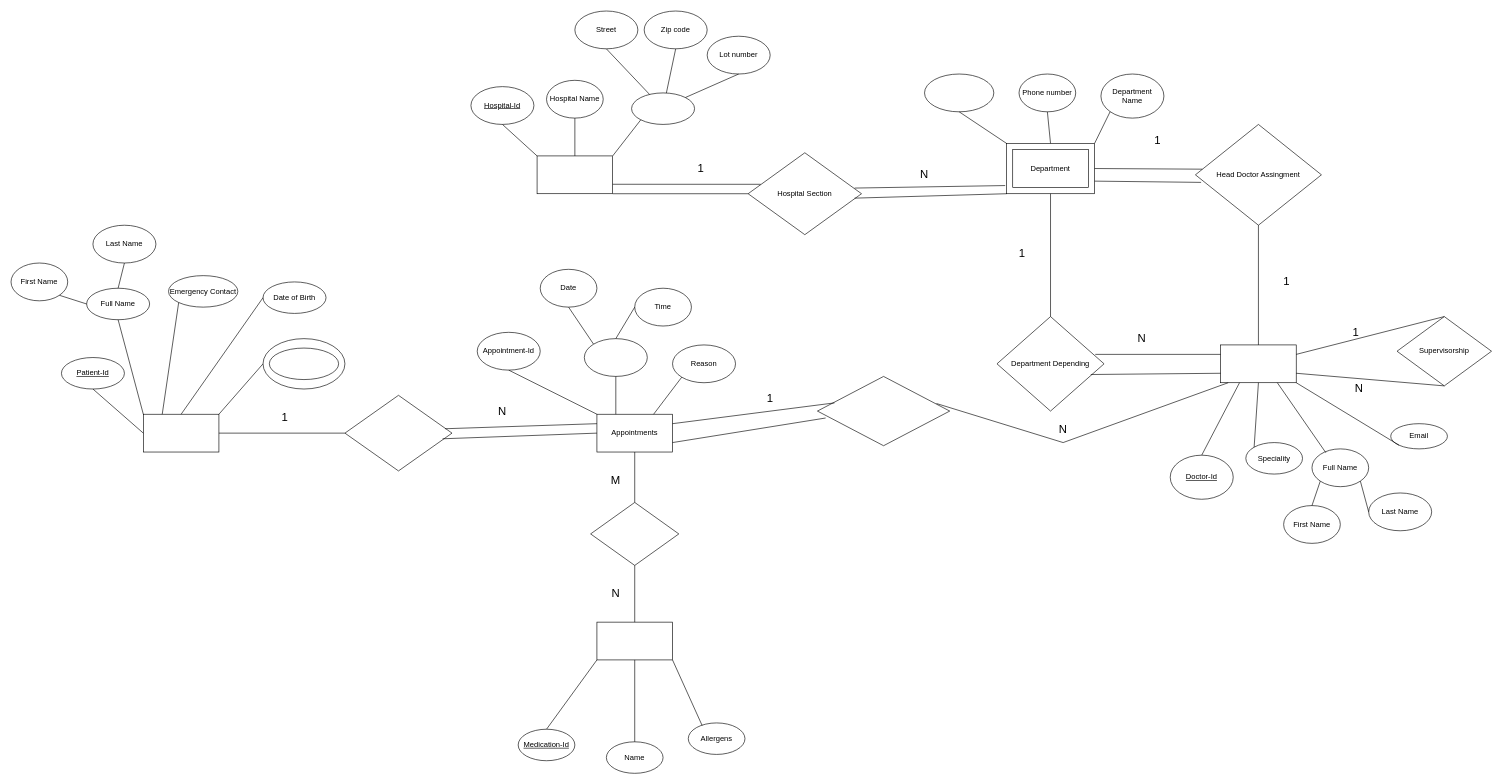
This 1503x784 diagram has some shape labels left out. Each missing label, with the box of its shape:
Contact information: (269, 347, 339, 380)
Date and Time: (584, 338, 647, 376)
Doctor to: (817, 376, 950, 446)
Doctors: (1220, 344, 1296, 383)
Hospital Address: (631, 92, 695, 124)
Hospitals: (536, 155, 613, 194)
Location in hospital: (924, 73, 994, 112)
Medication from: (590, 502, 679, 565)
Medications: (596, 621, 673, 660)
Patient where: (344, 395, 452, 471)
Patients: (143, 414, 219, 452)
